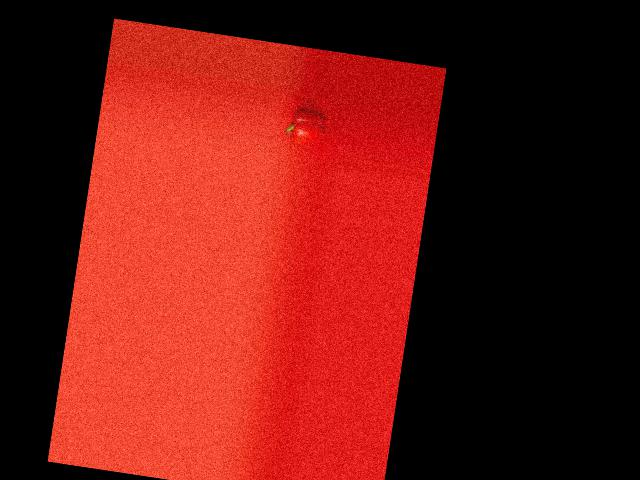bell_pepper: (283, 105, 330, 147)
